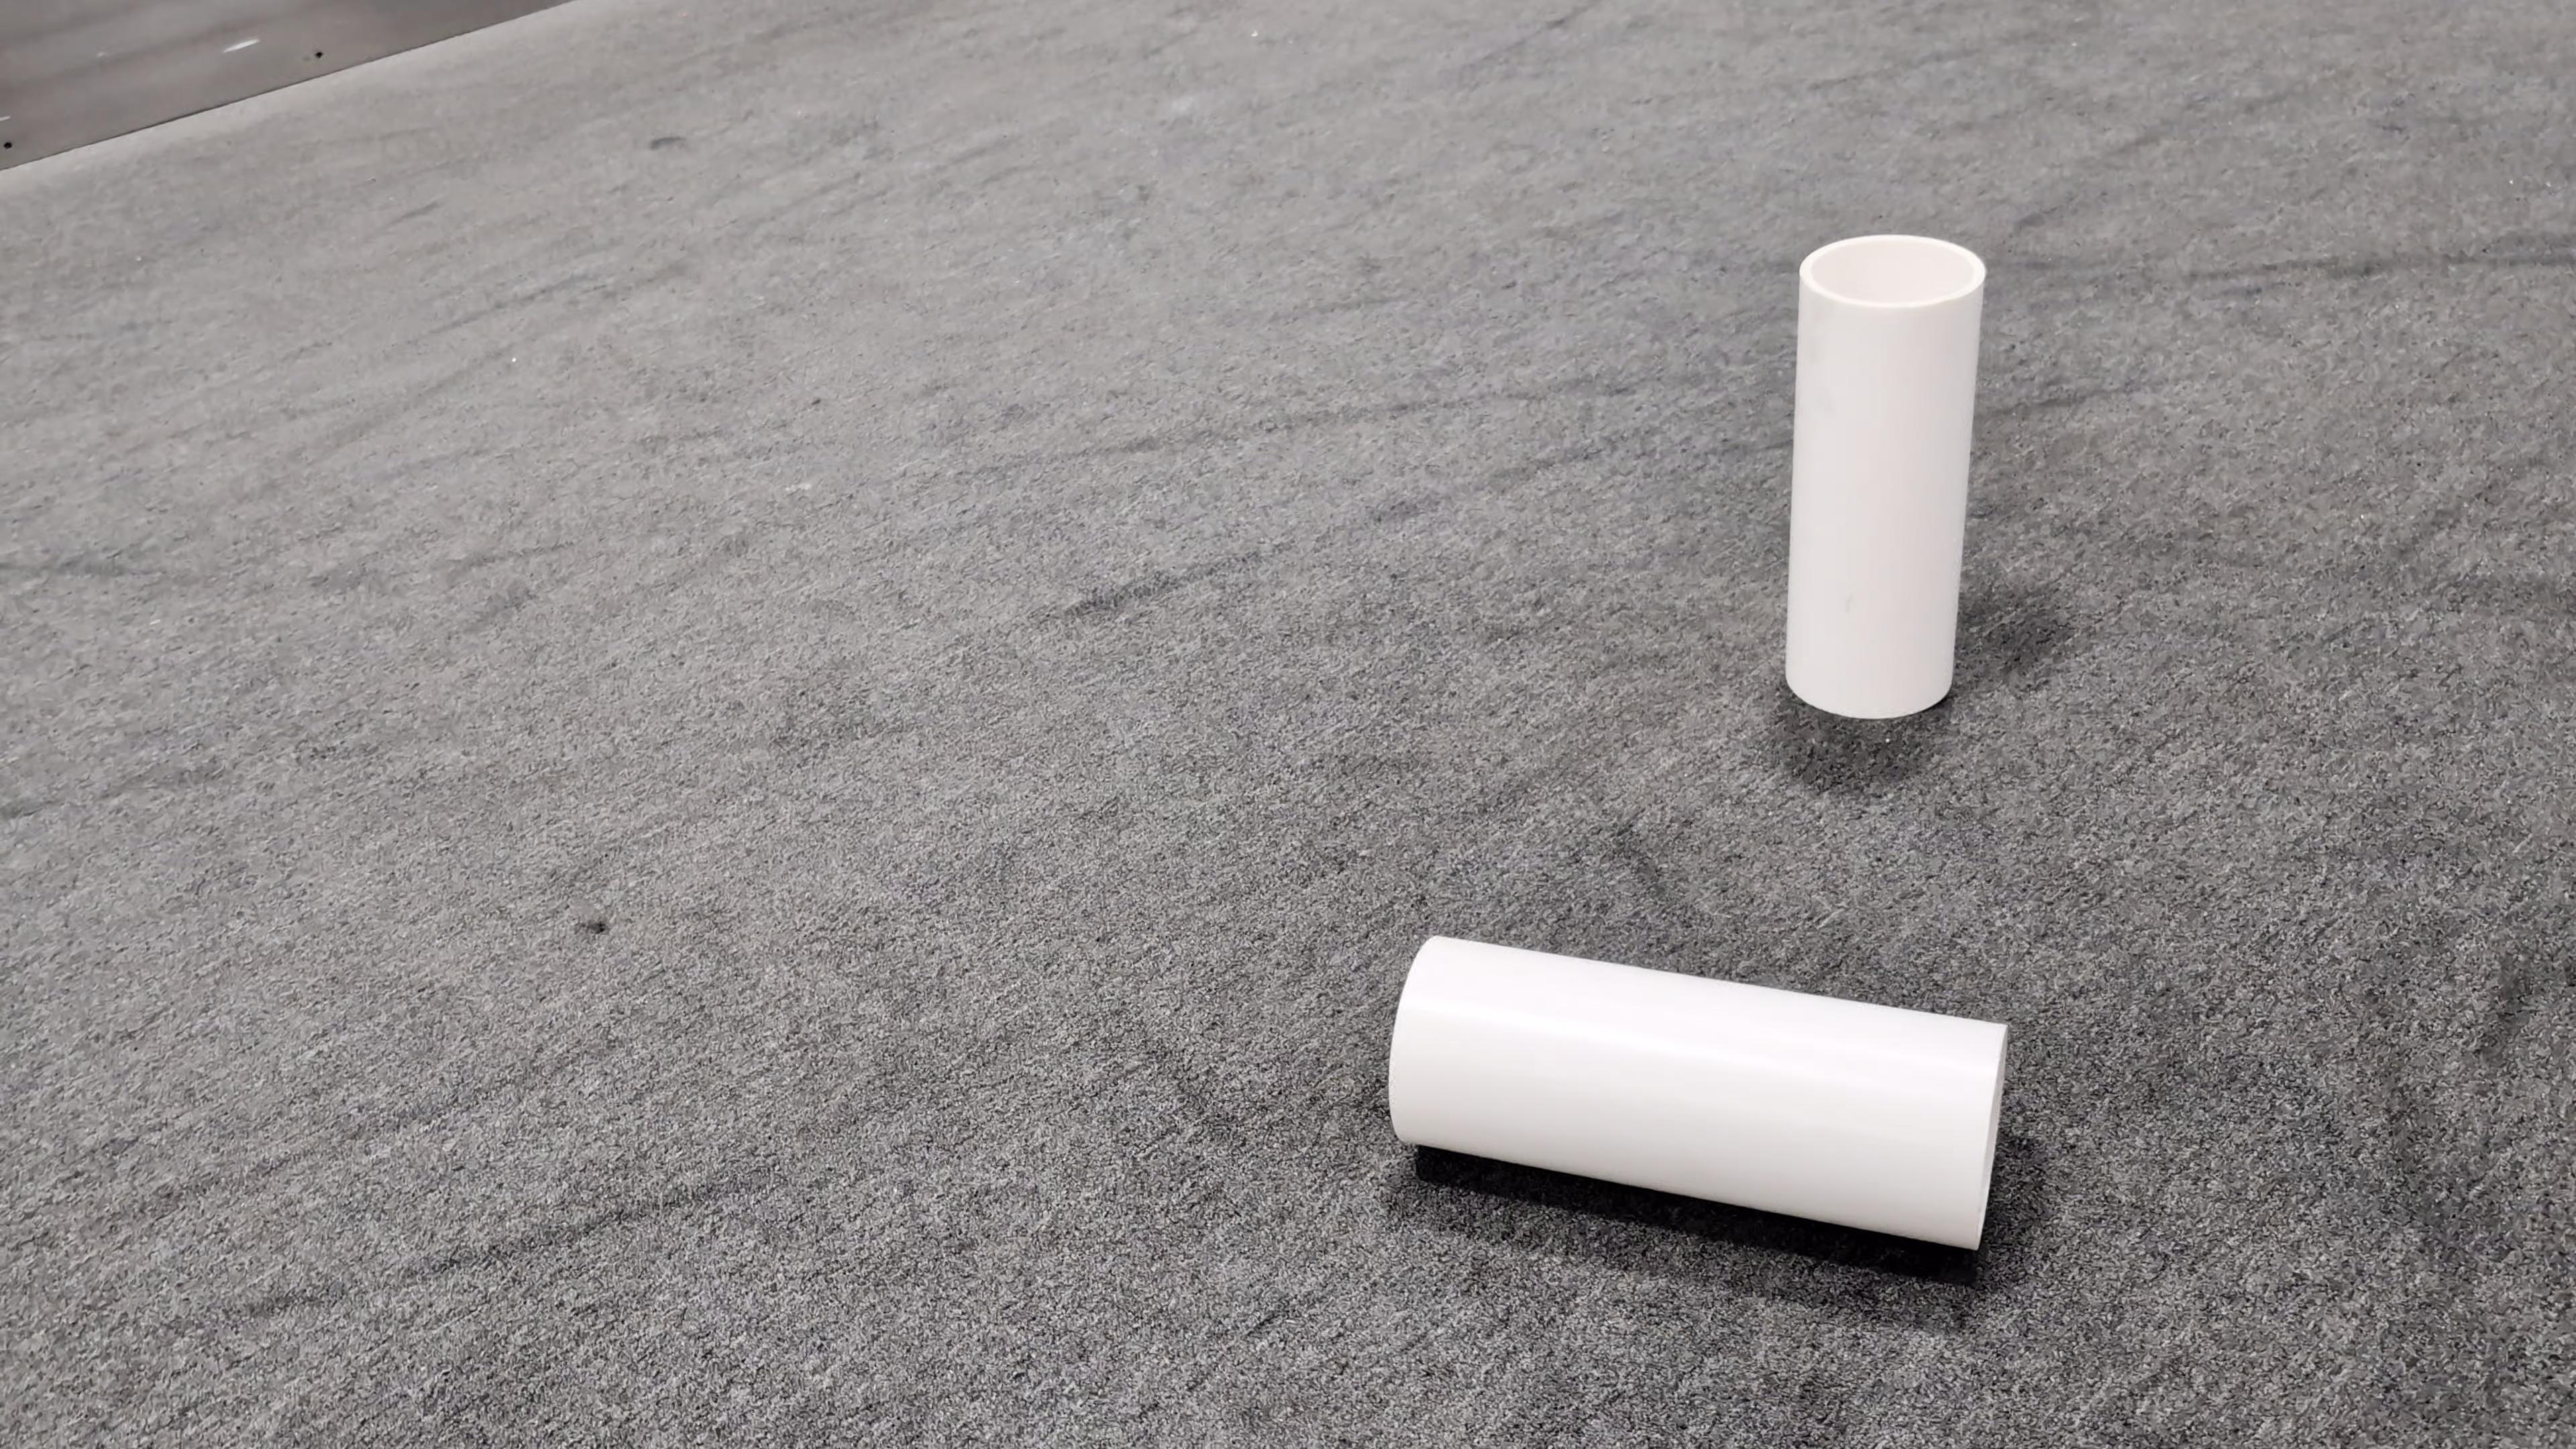coral: (1385, 932, 2013, 1253), (1778, 232, 1990, 718)
